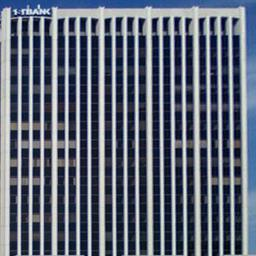building: (0, 6, 247, 256)
